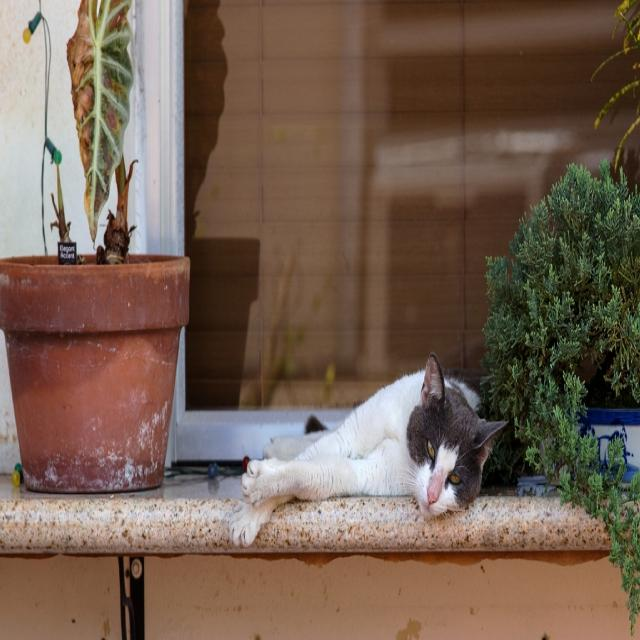Cat: (242, 345, 508, 530)
